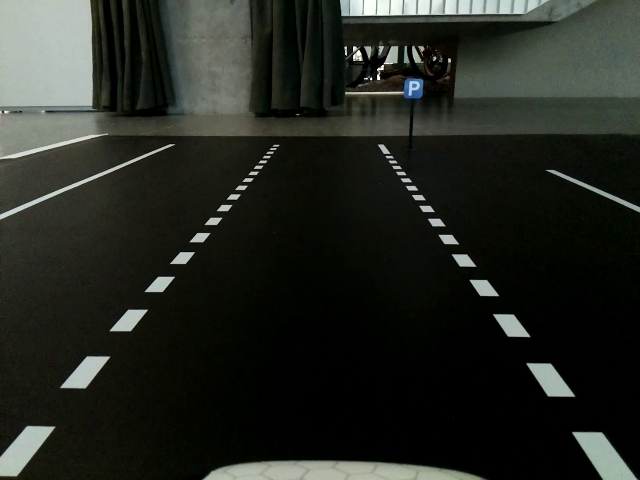park: (402, 77, 424, 99)
